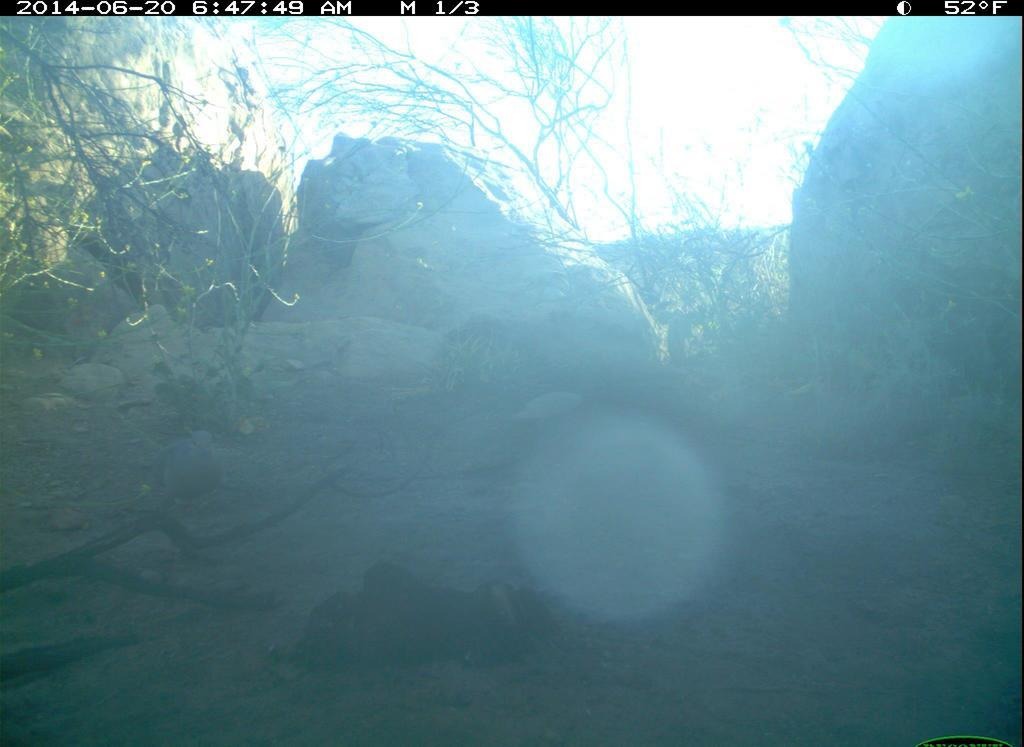bird: (136, 421, 233, 526)
